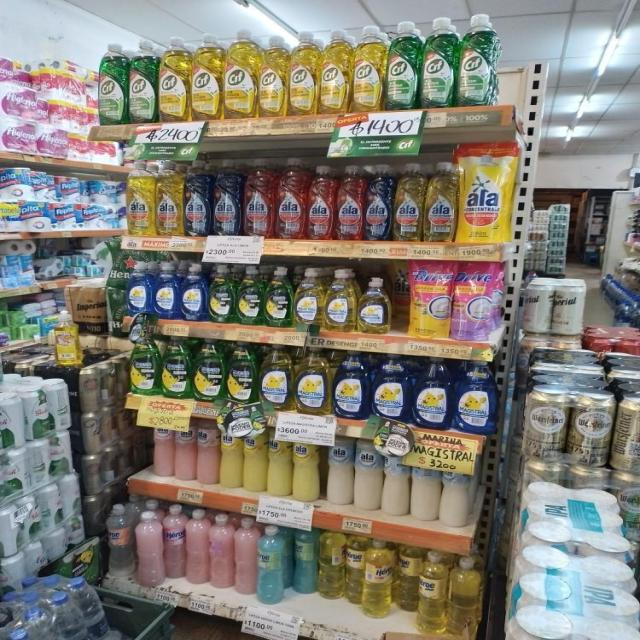ala_conc_amarillo: (425, 160, 458, 242), (394, 162, 424, 242), (155, 159, 183, 237), (126, 160, 154, 237)
ala_conc_azul: (212, 158, 242, 236), (365, 163, 392, 241), (184, 158, 211, 236)
ala_conc_rojo: (275, 156, 306, 240), (243, 157, 274, 237), (336, 164, 364, 241), (307, 163, 335, 240)
ala_crem_amarillo: (292, 432, 322, 502), (268, 428, 292, 497), (244, 425, 266, 493), (220, 423, 242, 490)
ala_crem_blanco: (440, 458, 473, 528), (410, 447, 440, 523), (354, 437, 382, 512), (325, 434, 353, 507), (383, 441, 409, 516)
ala_crem_rosado: (136, 506, 163, 587), (186, 508, 208, 586), (164, 505, 185, 583), (197, 419, 219, 486), (174, 418, 196, 482), (151, 418, 173, 478)
ala_sachet_amarillo: (460, 142, 511, 242)
cif_conc_bot_amarilla: (224, 31, 257, 119), (352, 25, 384, 113), (191, 33, 222, 121), (159, 36, 189, 123), (320, 28, 350, 115), (288, 30, 318, 116), (259, 35, 287, 117)
cif_conc_botella_verde: (459, 15, 498, 106), (421, 18, 457, 108), (386, 20, 420, 110), (128, 40, 156, 124), (98, 42, 126, 125)
drive: (453, 259, 504, 341), (408, 258, 451, 338)
heroe: (418, 550, 448, 636), (364, 538, 394, 618), (105, 503, 134, 580), (346, 535, 364, 607)
magistral_con_amarillo: (294, 346, 330, 415), (260, 344, 293, 412), (325, 268, 356, 332), (358, 276, 392, 334), (294, 266, 323, 330)
magistral_con_azul: (454, 358, 496, 434), (412, 356, 452, 429), (372, 353, 411, 421), (334, 350, 369, 420), (180, 263, 207, 321), (125, 261, 152, 318), (153, 262, 179, 320)
magistral_con_verde: (208, 264, 236, 324)
